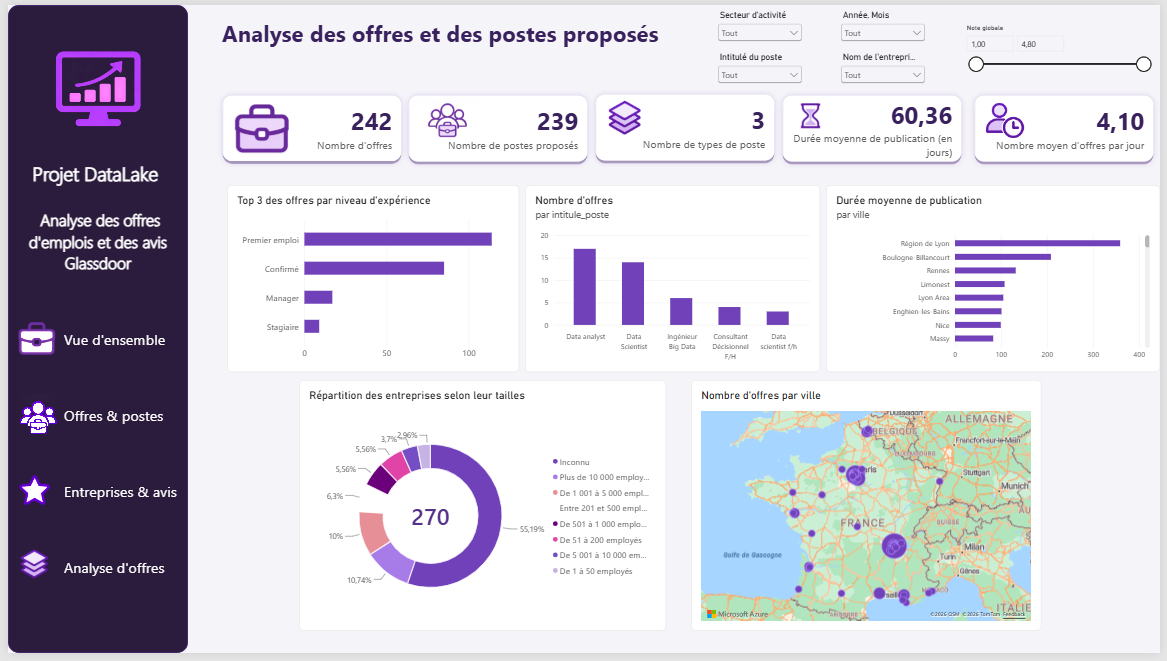

The page's visual inventory and layout, read from the dashboard file:
{"tool":"powerbi","page":{"name":"Offres & postes","canvas":[1920,1080],"ordinal":1},"visuals":[{"type":"shape","box":[0,0,300,1080],"z":0,"group":"g1"},{"type":"cardVisual","fields":{"Data":["Mesures.Nombre d'offres"]},"box":[346.7,140,320,131.7],"z":1000},{"type":"image","box":[6.7,528.3,81.7,55],"z":1000,"group":"g1"},{"type":"textbox","box":[356.7,22.2,884.4,104.4],"z":2000},{"type":"image","box":[13.3,783.3,61.7,50],"z":2000,"group":"g1"},{"type":"image","box":[373.3,165.6,98.3,81.7],"z":3000},{"type":"textbox","box":[13.3,258.3,273.3,213.3],"z":3000,"group":"g1"},{"type":"cardVisual","fields":{"Data":["Mesures.Nombre de postes proposés"]},"box":[656.7,140,320,132.2],"z":4000},{"type":"textbox","box":[93.3,540,193.3,498.9],"z":4000,"group":"g1"},{"type":"cardVisual","fields":{"Data":["Mesures.Nombre de types de poste"]},"box":[967.8,138.9,320,132.2],"z":5000},{"type":"cardVisual","fields":{"Data":["Mesures.Durée moyenne de publication"]},"box":[1280,140,320,132.2],"z":6000},{"type":"image","box":[13.3,648.3,75,76.7],"z":6003,"group":"g1"},{"type":"cardVisual","fields":{"Data":["Mesures.Offres par jour"]},"box":[1600,140,320,132.2],"z":7000},{"type":"image","box":[673.3,151.1,118.9,78.9],"z":8000},{"type":"barChart","title":"Top 3 des offres par niveau d''expérience","fields":{"Category":["Dim poste.niveau_hierarchique"],"Y":["Mesures.Nombre d'offres"]},"box":[364.4,300,486.7,312.2],"z":9000},{"type":"group","id":"g1","title":"Groupe 6","box":[0,0,300,1080],"z":10000},{"type":"donutChart","title":"Répartition des entreprises selon leur tailles","fields":{"Category":["Dim entreprise.taille_entreprise"],"Y":["Mesures.Nombre total d'entreprises"]},"box":[485.6,624.4,612.2,417.8],"z":10000},{"type":"columnChart","fields":{"Category":["Dim poste.intitule_poste"],"Y":["Mesures.Nombre d'offres"]},"box":[861.1,300,492.2,312.2],"z":11000},{"type":"image","box":[75,76.7,150,126.7],"z":11002,"group":"g1"},{"type":"barChart","fields":{"Category":["Fait offres.ville"],"Y":["Mesures.Durée moyenne de publication"]},"box":[1363.3,300,556.7,312.2],"z":12000},{"type":"image","box":[0,897.8,75.6,65.6],"z":12000},{"type":"azureMap","title":"Nombre d''offres par ville","fields":{"Category":["Fait offres.localisation"],"Size":["Mesures.Nombre d'offres"]},"box":[1137.8,624.4,584.4,417.8],"z":13000},{"type":"image","box":[1311.1,162.2,52.2,44.4],"z":14000},{"type":"image","box":[1623.3,155.6,74.4,74.4],"z":15000},{"type":"image","box":[976.7,154.4,88.9,65.6],"z":16000},{"type":"slicer","fields":{"Values":["Dim Date.date_jour.Variation.Hiérarchie de dates.Année","Dim Date.date_jour.Variation.Hiérarchie de dates.Mois"]},"box":[1383.3,8.9,150,65.6],"z":17000},{"type":"slicer","fields":{"Values":["Dim entreprise.secteur_activite"]},"box":[1177.8,8.9,150,65.6],"z":18000},{"type":"slicer","fields":{"Values":["Dim poste.intitule_poste"]},"box":[1177.8,77.8,150,62.2],"z":19000},{"type":"slicer","fields":{"Values":["Dim entreprise.nom_entreprise"]},"box":[1383.3,77.8,150,62.2],"z":20000},{"type":"slicer","fields":{"Values":["Dim entreprise.note_globale"]},"box":[1590,31.1,318.9,85.6],"z":21000}]}

Visuals, with their boxes on the page's 1920x1080 design canvas (x1, y1, x2, y2). These are canvas units, not pixel positions in the 1167x661 screenshot, which may show the page scaled, cropped or inside an application window:
shape: (0,0,300,1080)
cardVisual - Mesures.Nombre d'offres: (347,140,667,272)
image: (7,528,88,583)
textbox: (357,22,1241,127)
image: (13,783,75,833)
image: (373,166,472,247)
textbox: (13,258,287,472)
cardVisual - Mesures.Nombre de postes proposés: (657,140,977,272)
textbox: (93,540,287,1039)
cardVisual - Mesures.Nombre de types de poste: (968,139,1288,271)
cardVisual - Mesures.Durée moyenne de publication: (1280,140,1600,272)
image: (13,648,88,725)
cardVisual - Mesures.Offres par jour: (1600,140,1920,272)
image: (673,151,792,230)
"Top 3 des offres par niveau d''expérience" barChart: (364,300,851,612)
"Groupe 6" group: (0,0,300,1080)
"Répartition des entreprises selon leur tailles" donutChart: (486,624,1098,1042)
columnChart - Dim poste.intitule_poste x Mesures.Nombre d'offres: (861,300,1353,612)
image: (75,77,225,203)
barChart - Fait offres.ville x Mesures.Durée moyenne de publication: (1363,300,1920,612)
image: (0,898,76,963)
"Nombre d''offres par ville" azureMap: (1138,624,1722,1042)
image: (1311,162,1363,207)
image: (1623,156,1698,230)
image: (977,154,1066,220)
slicer - Dim Date.date_jour.Variation.Hiérarchie de dates.Année x Dim Date.date_jour.Variation.Hiérarchie de dates.Mois: (1383,9,1533,74)
slicer - Dim entreprise.secteur_activite: (1178,9,1328,74)
slicer - Dim poste.intitule_poste: (1178,78,1328,140)
slicer - Dim entreprise.nom_entreprise: (1383,78,1533,140)
slicer - Dim entreprise.note_globale: (1590,31,1909,117)
